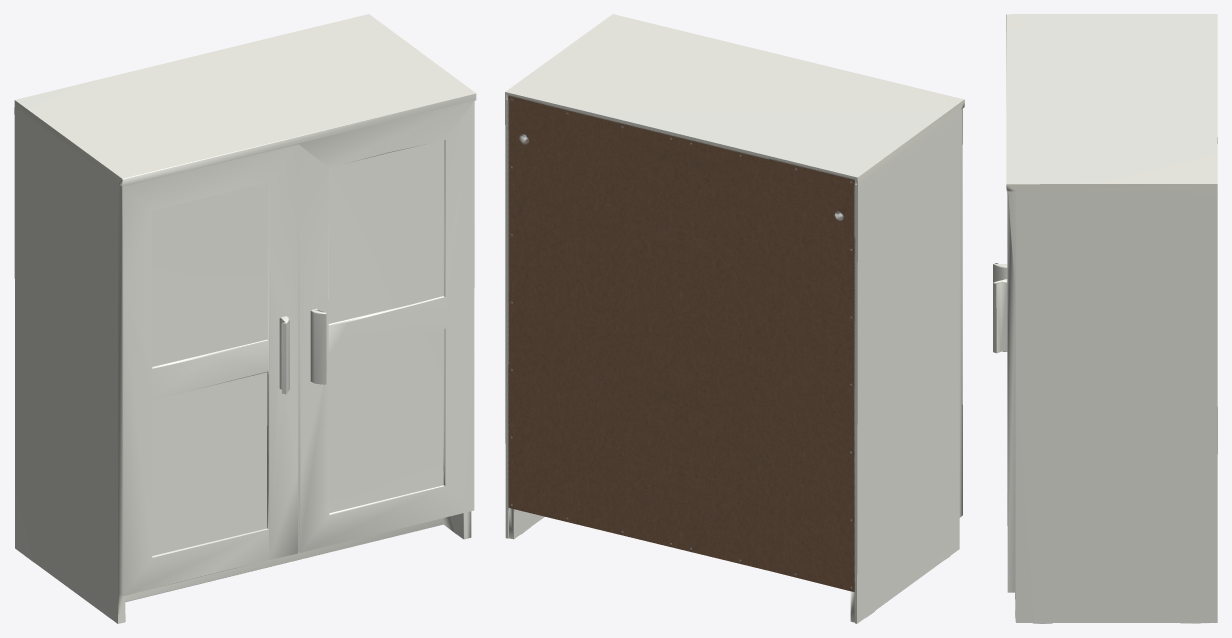
File: BRIMNES_40300662.glb
The picture shows the model from 3 angles, left to right: view 1: azimuth 30°, elevation 25°; view 2: azimuth 150°, elevation 25°; view 3: azimuth 270°, elevation 25°; orthographic projection. The views are drawn at different scales.
Parts seen in each view (by area): view 1: ProcessedMeshNode; view 2: ProcessedMeshNode; view 3: ProcessedMeshNode.
Part boxes in pixels (bbox=[...]): ProcessedMeshNode: bbox=[14, 14, 476, 623]; ProcessedMeshNode: bbox=[505, 14, 964, 623]; ProcessedMeshNode: bbox=[993, 14, 1217, 623].
Size of the model in its own units: 0.7829 by 0.95 by 0.4386.
1 material, 1 textured.
